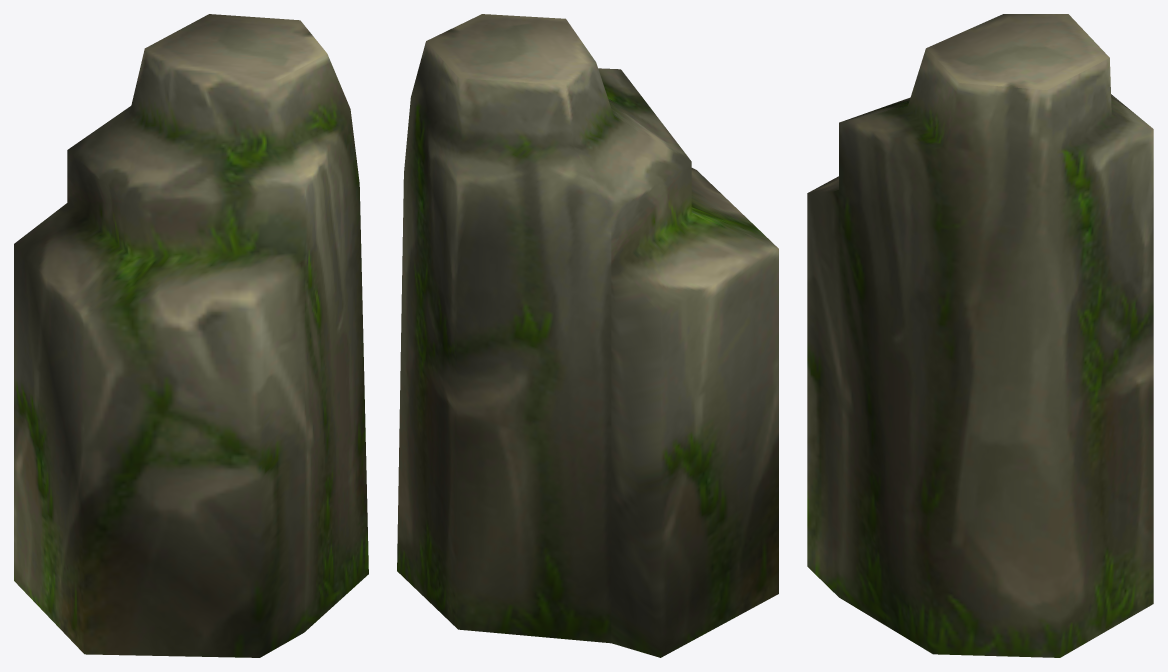
The model's file is RockFormation_4_5 (21).fbx.
3 views of the same model, side by side, from view 1: azimuth 30°, elevation 25°; view 2: azimuth 150°, elevation 25°; view 3: azimuth 270°, elevation 25° (orthographic). The views are drawn at different scales.
Parts seen in each view (by area): view 1: RockFormation_4_5 (21); view 2: RockFormation_4_5 (21); view 3: RockFormation_4_5 (21).
Part boxes in pixels (x1,y1,x2,y2): RockFormation_4_5 (21): (14,14,368,657); RockFormation_4_5 (21): (397,14,778,657); RockFormation_4_5 (21): (807,14,1153,657).
Size of the model in its own units: 1140 by 1867 by 1054.
Materials: 1 (1 with a texture image).
